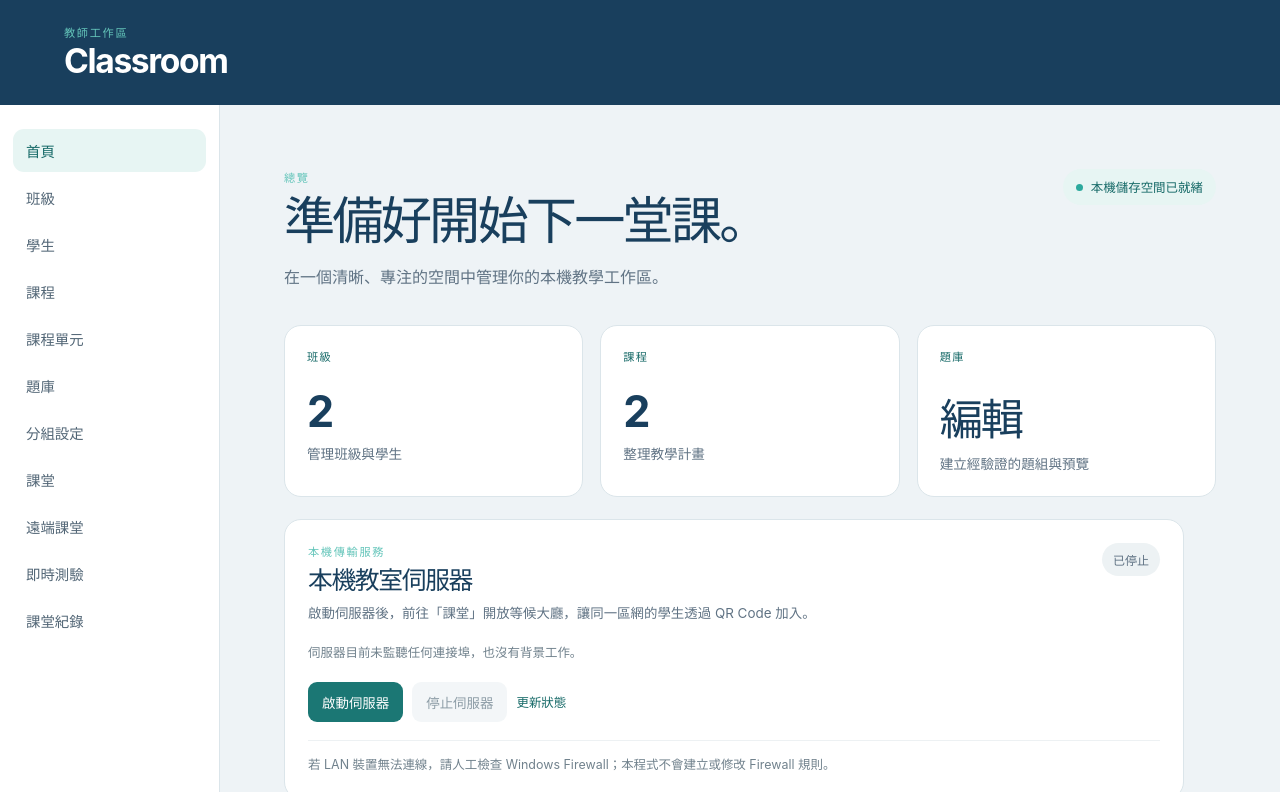
Test case: Phase 14 distinguishes 課程單元 loading, empty, failed and obsolete requests
The width and height of the screenshot is (1280, 792).
Expected: the text "本機儲存空間已就緒" is shown, [1063, 169, 1216, 205]
Click the button "課程單元" at [110, 338], box [13, 317, 206, 360]
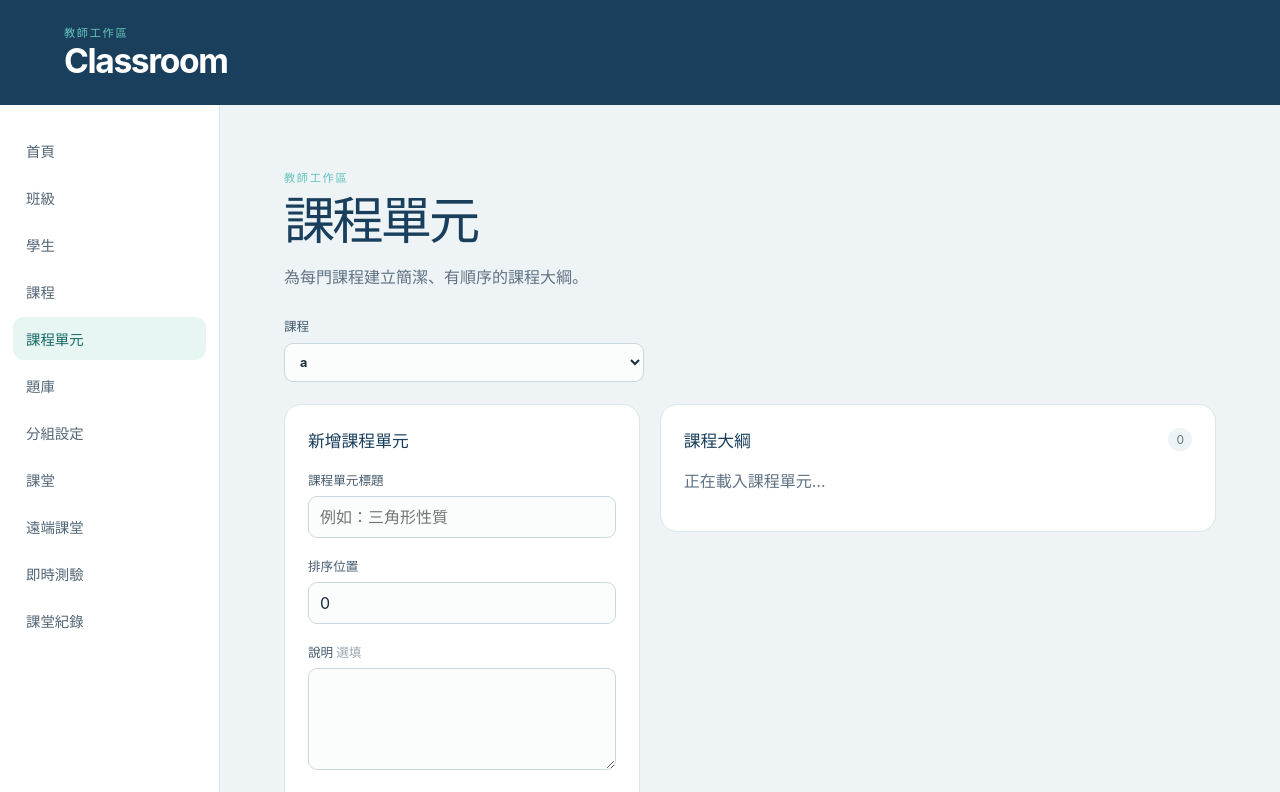
Expected: the text "尚未建立課程單元。請新增第一個課程單元。" is not shown
Now the message reads "正在載入課程單元…", box [684, 471, 826, 491]
Select "b" in the dropdown labelled "課程" at [464, 362], box [284, 343, 644, 382]
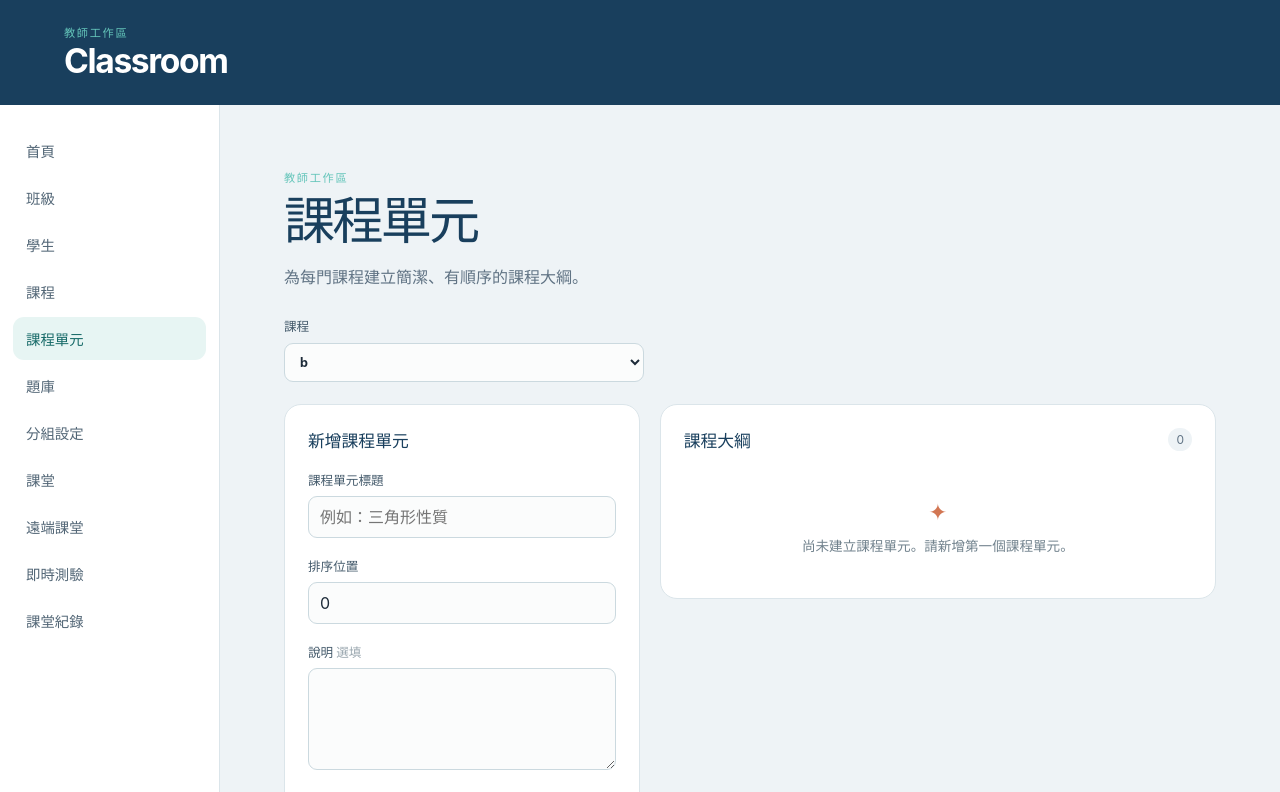
Now the text "尚未建立課程單元。請新增第一個課程單元。" is shown, box [802, 538, 1074, 554]
Now the message "正在載入課程單元…" is gone
Select "a" in the dropdown labelled "課程" at [464, 362], box [284, 343, 644, 382]
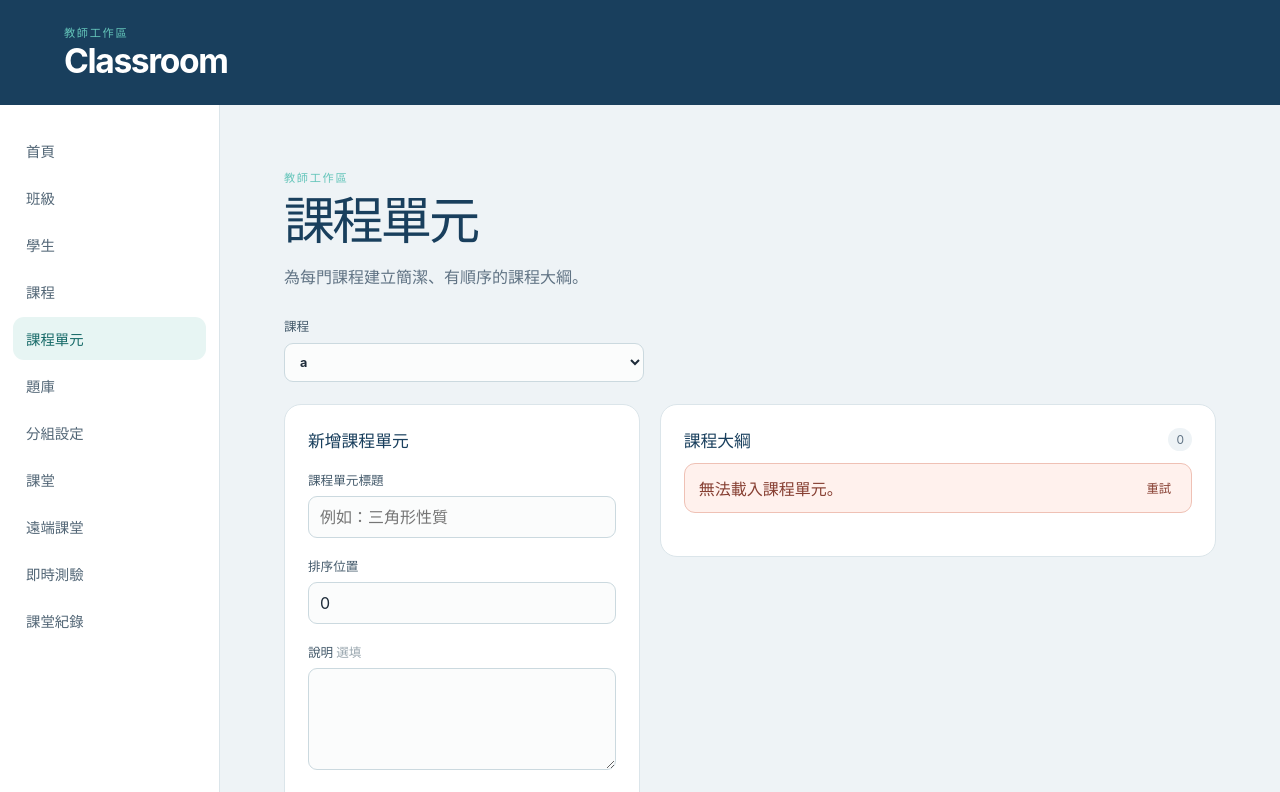
Now the message shows "無法載入課程單元。", box [699, 479, 843, 499]
Now the text "尚未建立課程單元。請新增第一個課程單元。" is gone
Click the button "重試" at [1159, 488], box [1140, 478, 1177, 498]
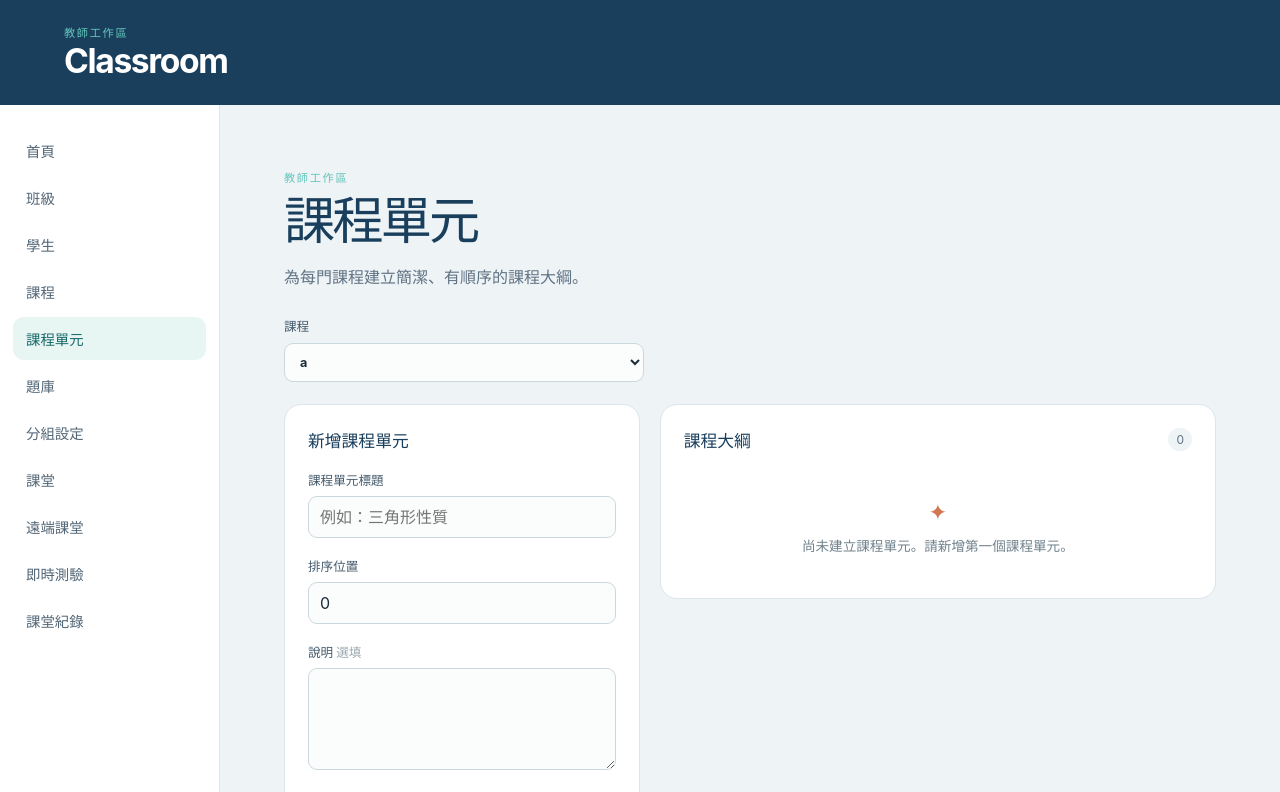
Now the text "尚未建立課程單元。請新增第一個課程單元。" is shown, box [802, 538, 1074, 554]
